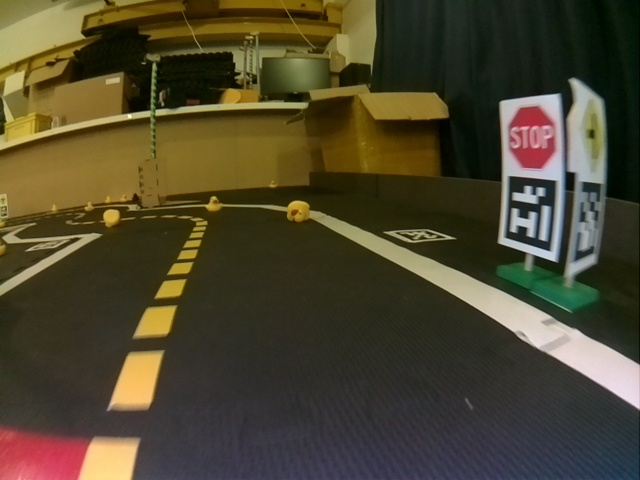Duckie: (287, 200, 308, 222), (103, 209, 120, 228), (206, 196, 223, 211), (85, 202, 95, 211), (269, 180, 278, 189)
QR code: (503, 174, 556, 254), (386, 229, 453, 243), (26, 240, 70, 251)
Stop sign: (506, 105, 560, 170)
